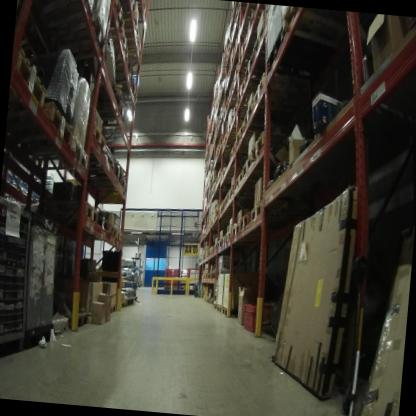pallet: (23, 3, 110, 69), (13, 91, 75, 159), (242, 50, 307, 106), (248, 75, 328, 119), (23, 0, 99, 45), (8, 44, 56, 115), (280, 7, 362, 48), (25, 130, 90, 174), (78, 74, 130, 124), (251, 128, 310, 167), (43, 189, 101, 226), (233, 122, 291, 155), (250, 199, 307, 230), (242, 105, 294, 136), (79, 113, 112, 152), (85, 158, 126, 188), (106, 76, 141, 111), (112, 29, 144, 64), (106, 8, 146, 36), (93, 0, 129, 31), (230, 57, 260, 93), (249, 14, 271, 61), (104, 24, 131, 59), (230, 224, 277, 244), (224, 80, 254, 111), (225, 118, 259, 145), (235, 83, 269, 108), (238, 36, 261, 72), (63, 311, 96, 333), (222, 194, 252, 215), (226, 139, 249, 166), (228, 185, 260, 204), (219, 165, 241, 191), (238, 143, 254, 177), (232, 170, 255, 193), (92, 208, 110, 234), (238, 207, 253, 233), (103, 216, 118, 241), (136, 0, 152, 21), (108, 303, 121, 322), (114, 222, 124, 246), (222, 306, 238, 320), (124, 292, 138, 308), (224, 230, 234, 246), (121, 174, 129, 192), (218, 201, 226, 219), (216, 300, 223, 317), (217, 236, 223, 251), (220, 235, 226, 249), (214, 241, 219, 257), (212, 301, 219, 312), (210, 296, 215, 306), (206, 295, 211, 305)
pallet_truck: (194, 262, 209, 297), (191, 260, 200, 299)
small_load_carrier: (237, 296, 273, 337)
stillage: (0, 192, 42, 369)
